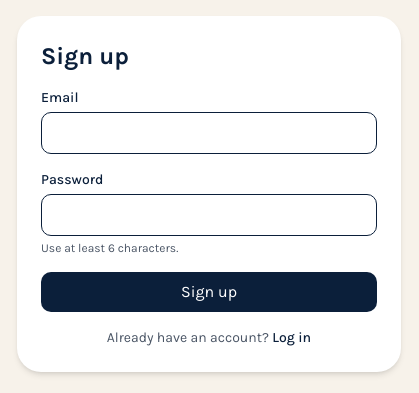
Test: authentication user flows › explains when a new account needs email confirmation
Step 1. Type "learner@example.com" into the field labelled "Email" → (209, 133), box 41,112 -> 377,154
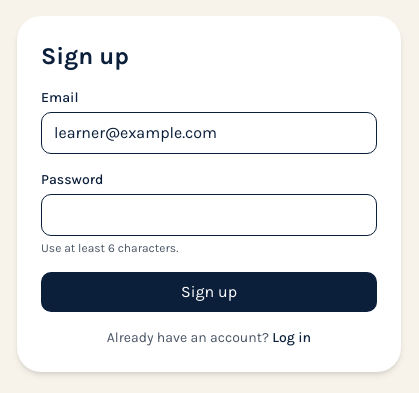
Step 2. Type "secret-password" into the password field labelled "Password" → (209, 215), box 41,194 -> 377,236
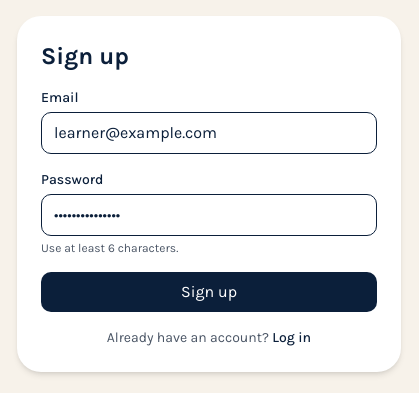
Step 3. Click the button "Sign up" → (209, 292), box 41,272 -> 377,312
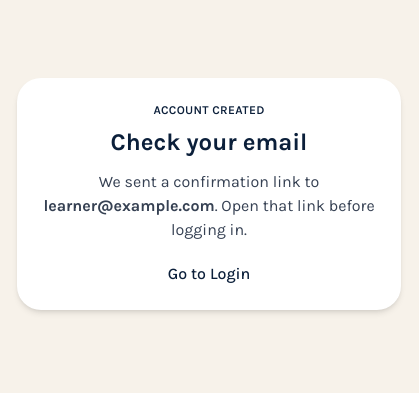
Check: the heading "Check your email" is shown, box 111,128 -> 307,156
Check: the message shows "learner@example.com", box 43,196 -> 215,215
